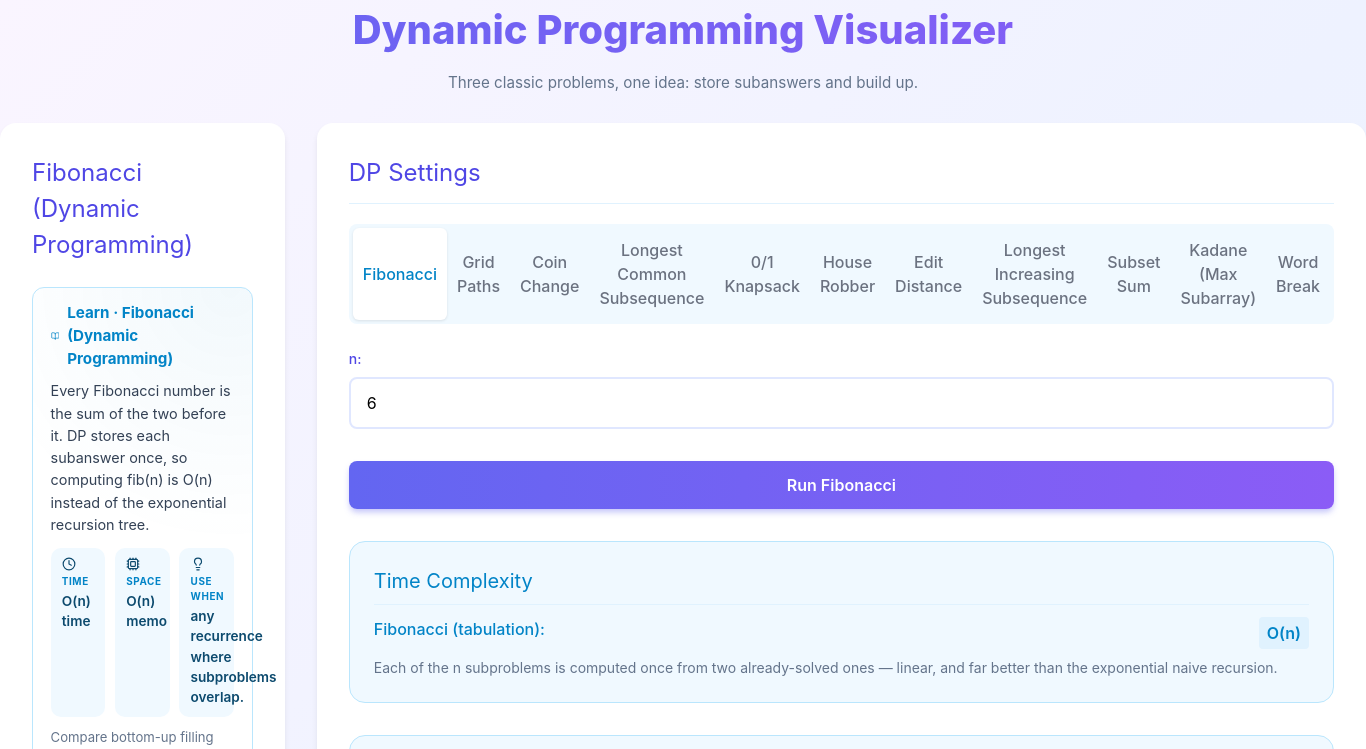
Test: DynamicProgramming › coin change tab records the run
Step 1. Click the button "Coin Change" → x=550, y=274, box left=510, top=228, right=589, bottom=320
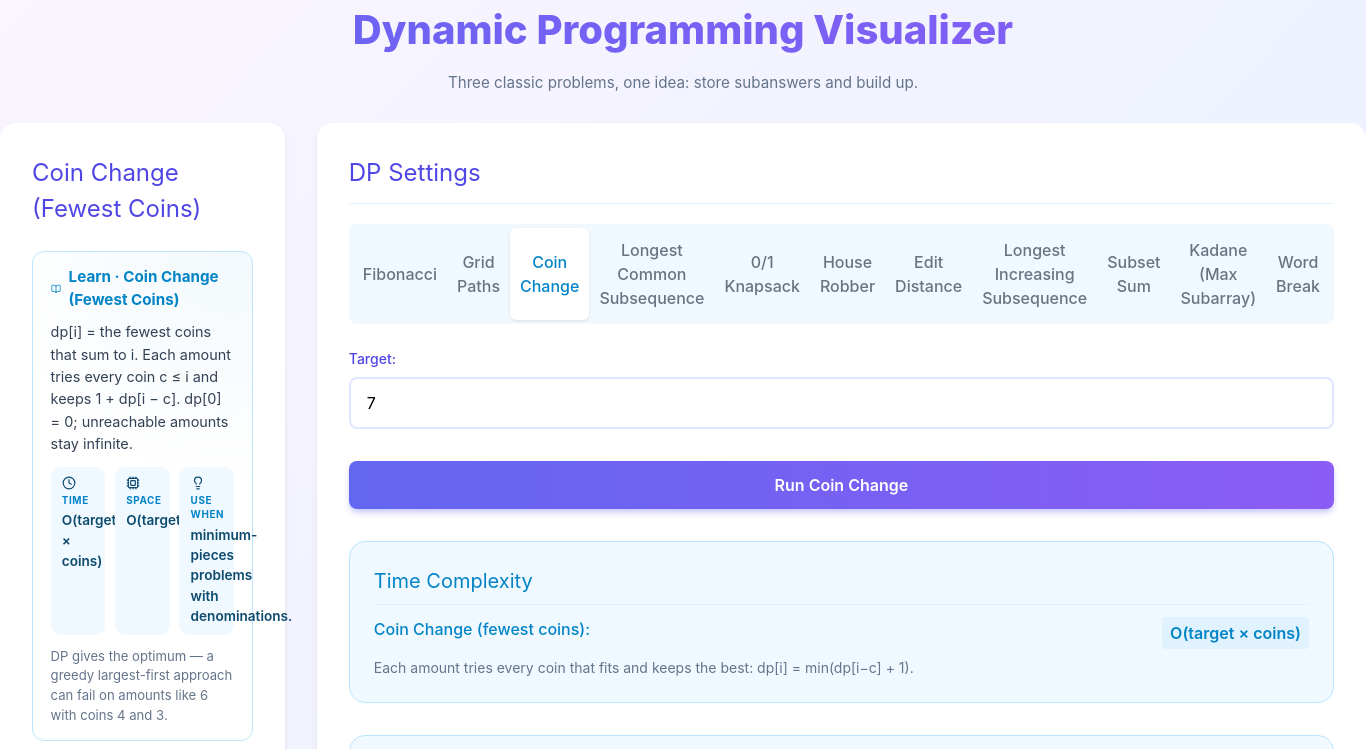
Step 2. Replace the text in the number field with placeholder "target" with "6" → x=841, y=403, box left=349, top=377, right=1334, bottom=429
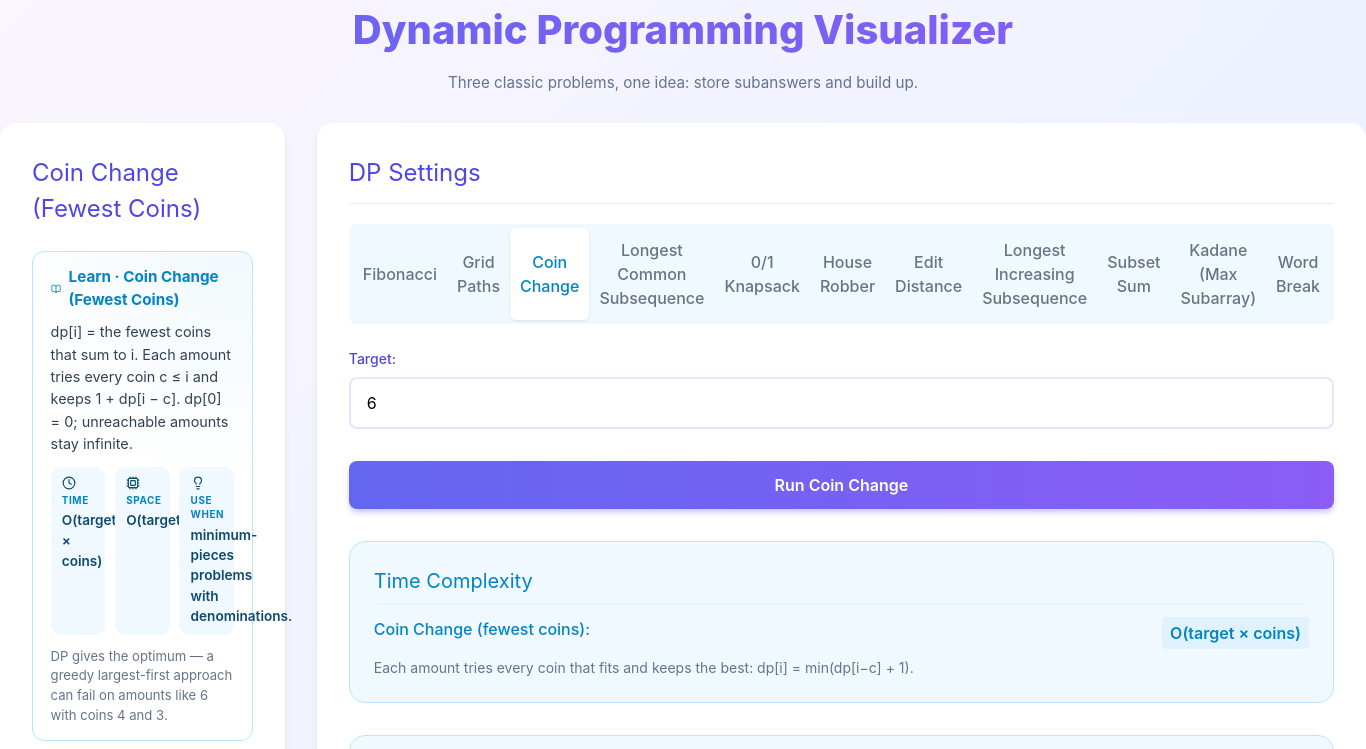
Step 3. Click the button "Run Coin Change" → x=841, y=485, box left=349, top=461, right=1334, bottom=509
Wait 60000 ms
(page scrolled)
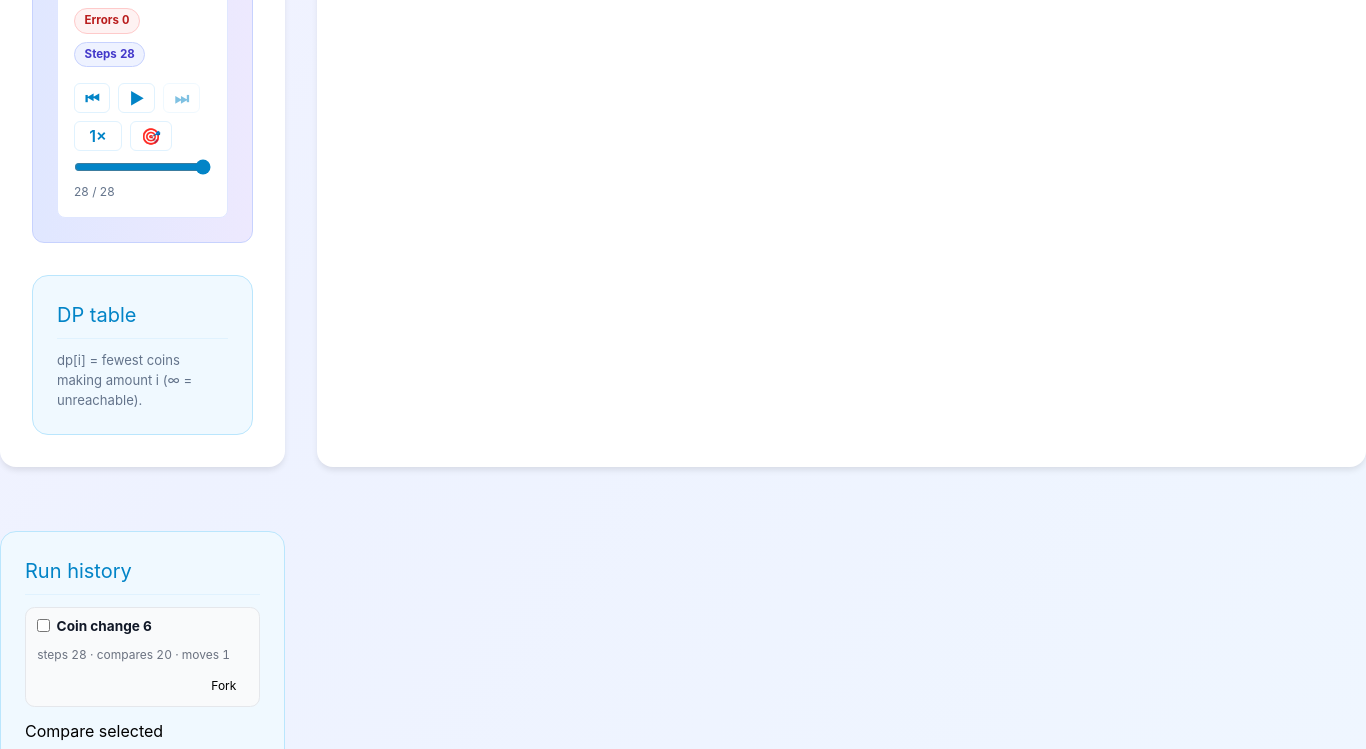
Expected: the text "Coin change 6" is shown, left=57, top=616, right=152, bottom=636
